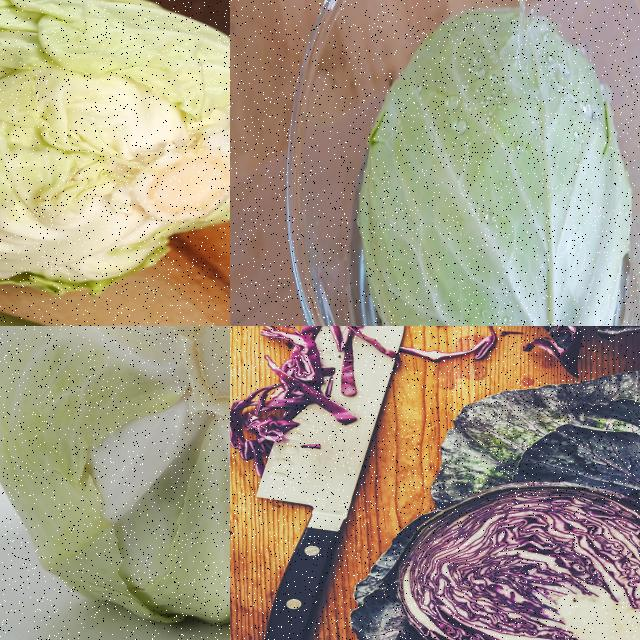cabbage: (354, 0, 634, 325), (0, 326, 229, 634), (0, 0, 229, 305), (397, 480, 639, 639), (230, 326, 375, 458)
